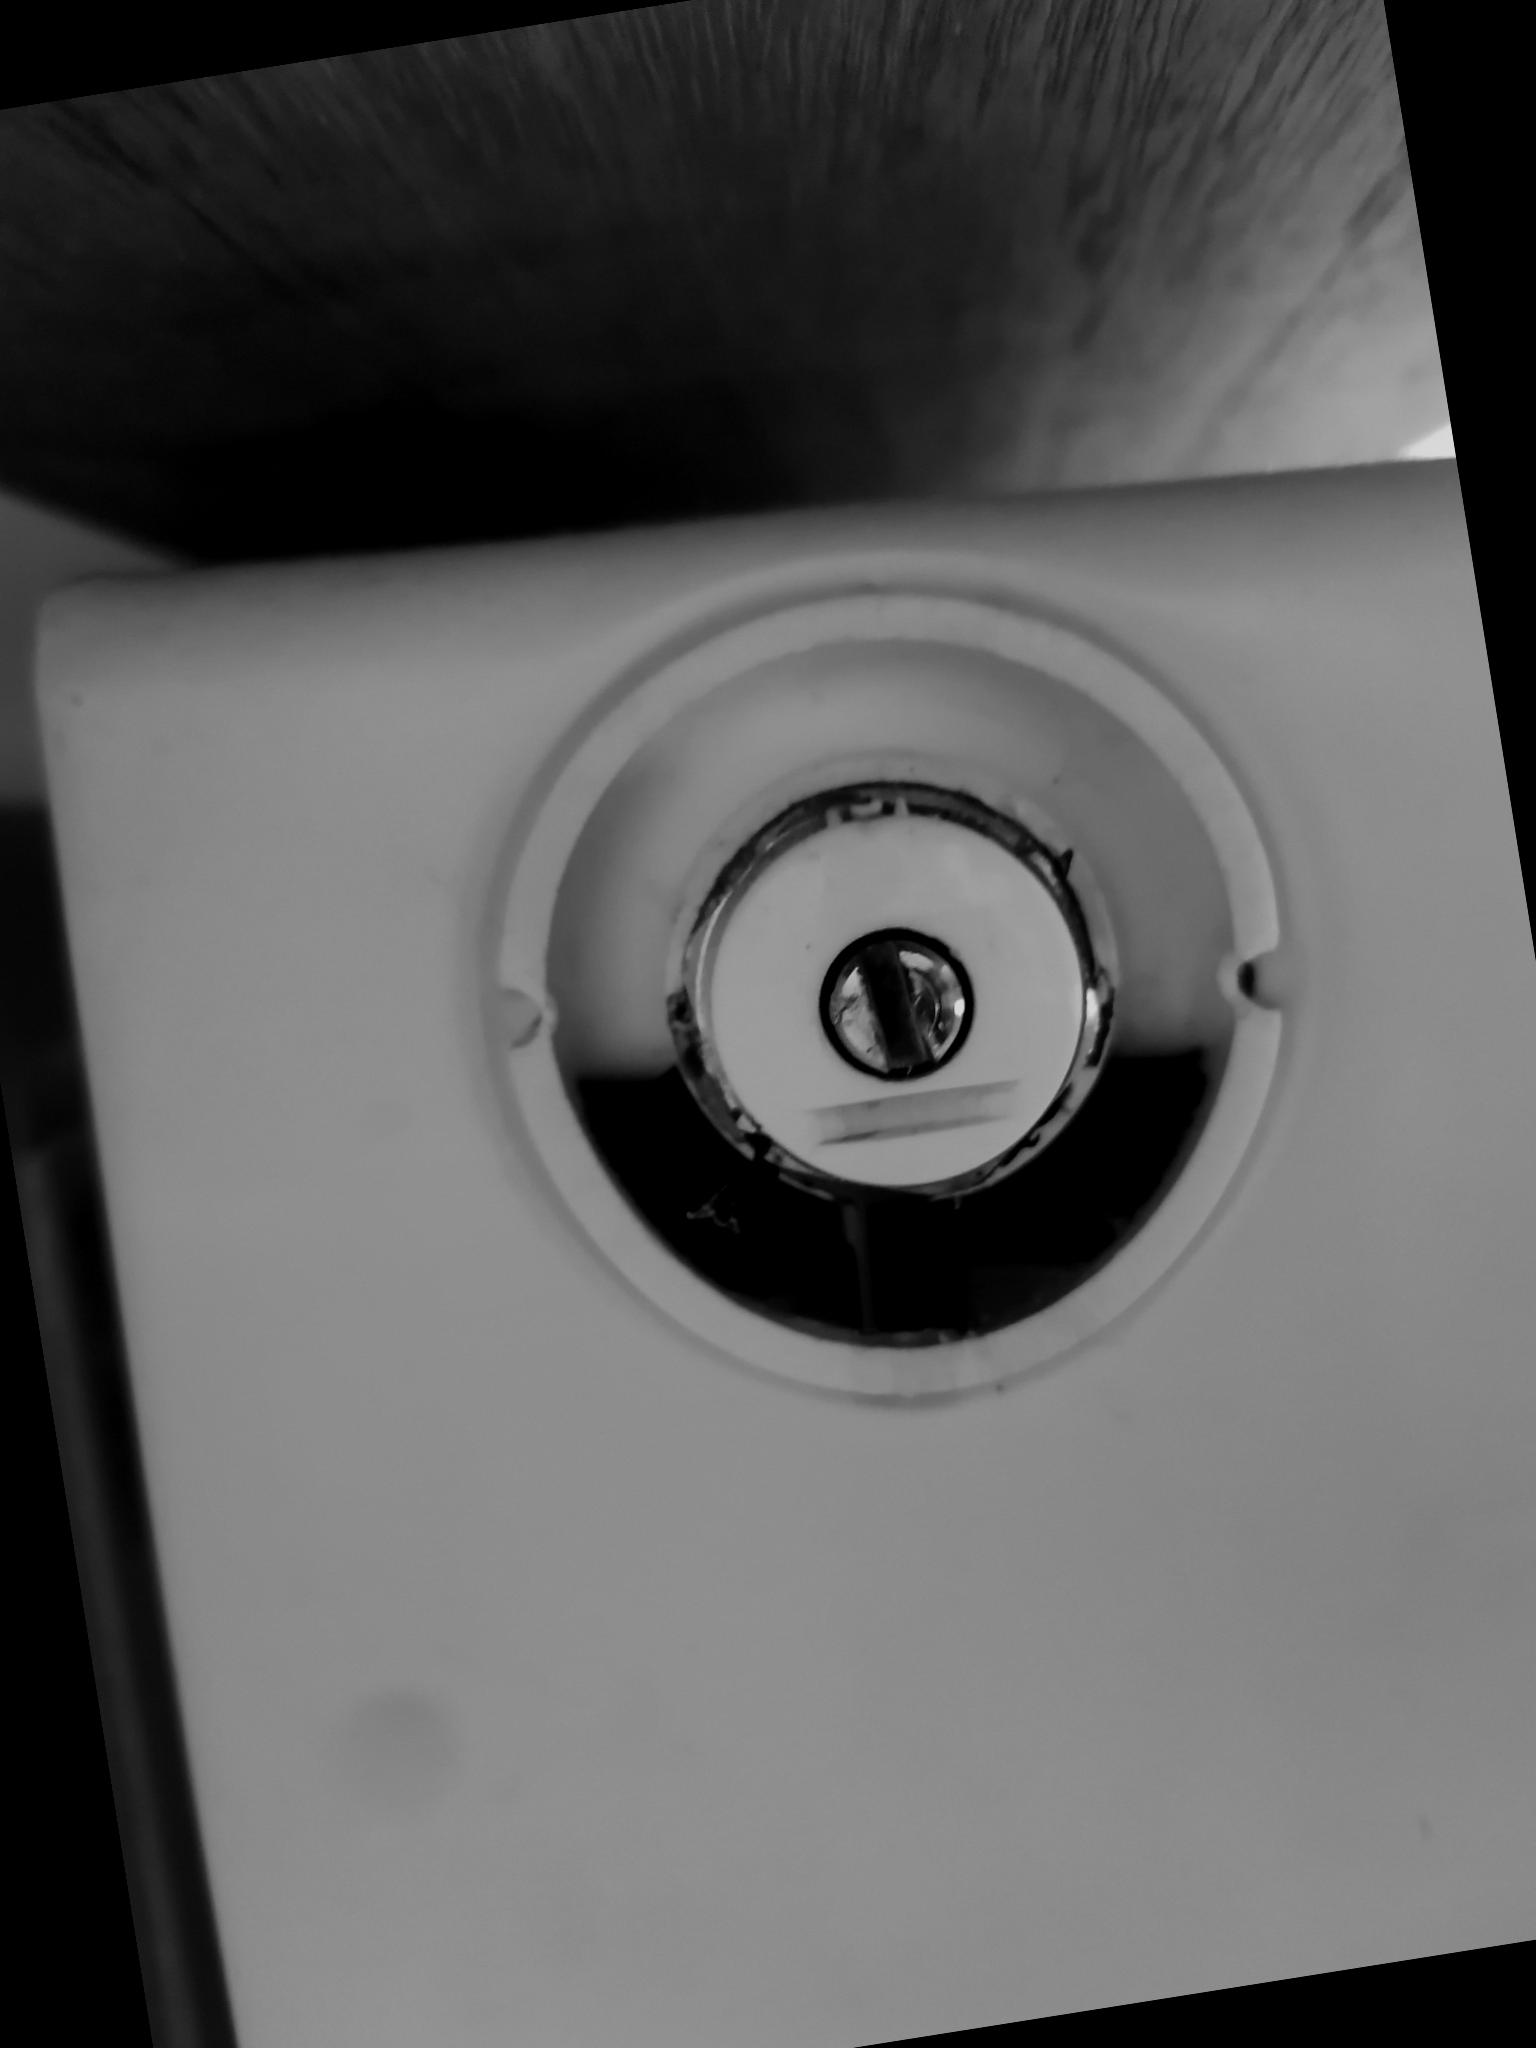screw: (795, 914, 1002, 1106)
